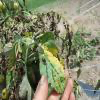Tomato Septoria leaf spot: (36, 30, 67, 94), (4, 40, 17, 70), (20, 75, 33, 97)
